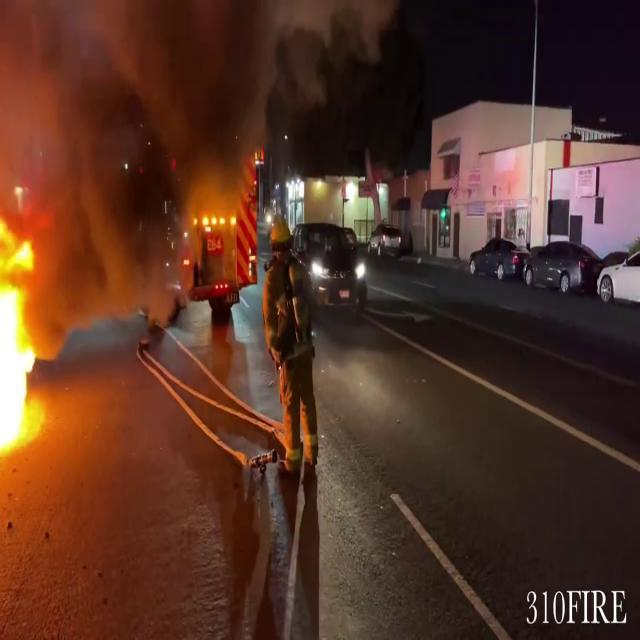Fire: (0, 199, 51, 463)
Smoke: (1, 0, 280, 315)
